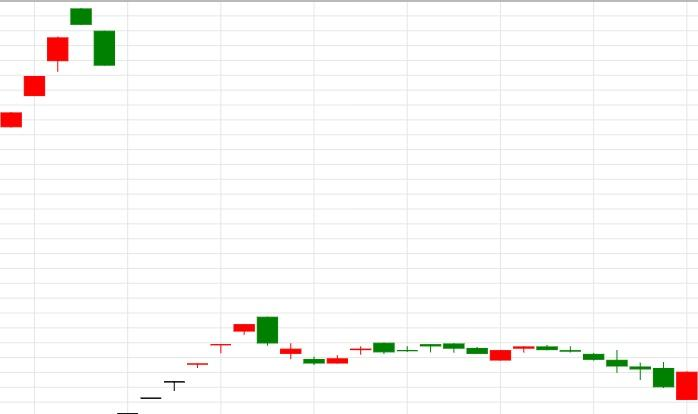bearish_engulfing_fall: (117, 317, 278, 413)
